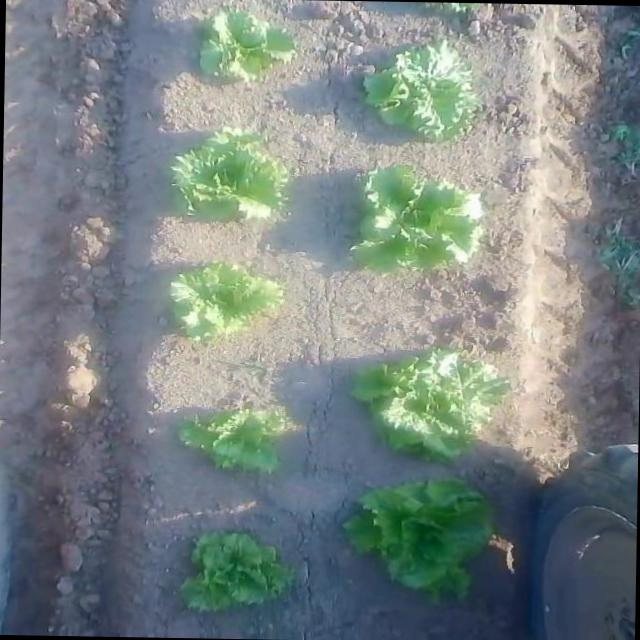Lettuce-Ready-to-Harvest: (344, 343, 508, 468), (335, 477, 496, 604), (357, 38, 483, 146), (359, 163, 485, 268), (172, 121, 298, 222), (164, 258, 285, 340), (178, 526, 288, 614), (192, 8, 302, 86), (176, 401, 290, 476)
